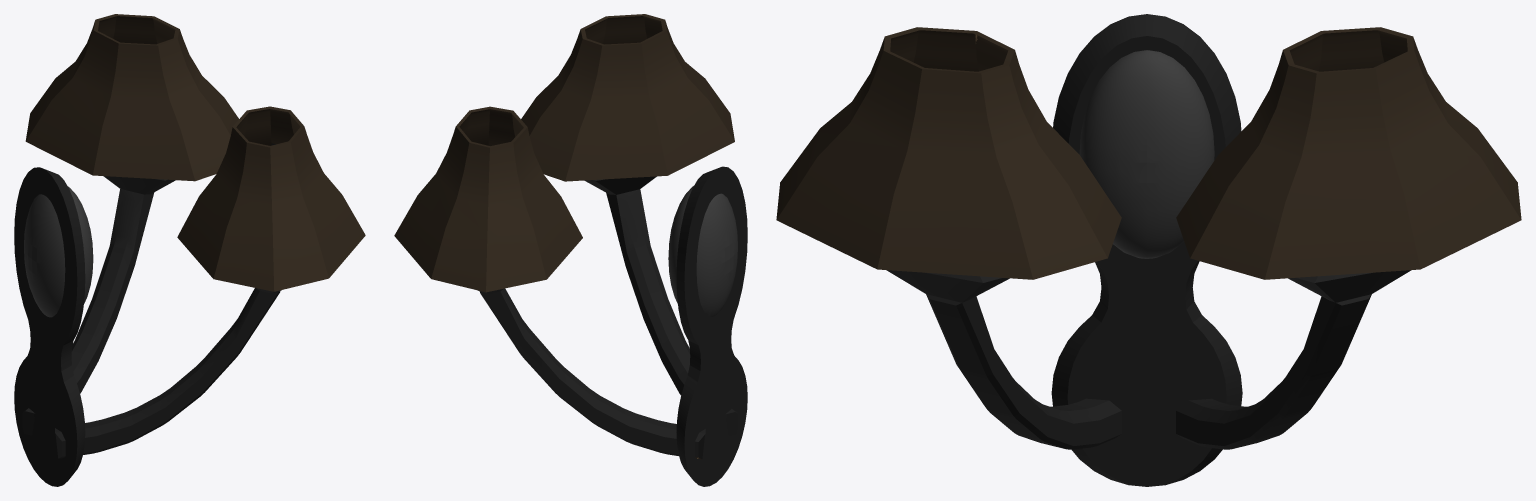
The model's file is Wall Lamp.fbx.
3 renders of one model, left to right at view 1: azimuth 30°, elevation 25°; view 2: azimuth 150°, elevation 25°; view 3: azimuth 270°, elevation 25°, orthographic. The views are drawn at different scales.
Parts seen in each view (by area): view 1: Cube, Cylinder; view 2: Cube, Cylinder; view 3: Cube, Cylinder.
Boxes of the visible parts, box(x1,y1,x2,y2) form: Cube: box(22, 14, 365, 458); Cylinder: box(14, 167, 93, 486); Cube: box(394, 14, 737, 459); Cylinder: box(668, 166, 747, 486); Cube: box(776, 27, 1521, 449); Cylinder: box(1051, 14, 1242, 486).
Bounding box in the file's own units: 569 × 768 × 936.
